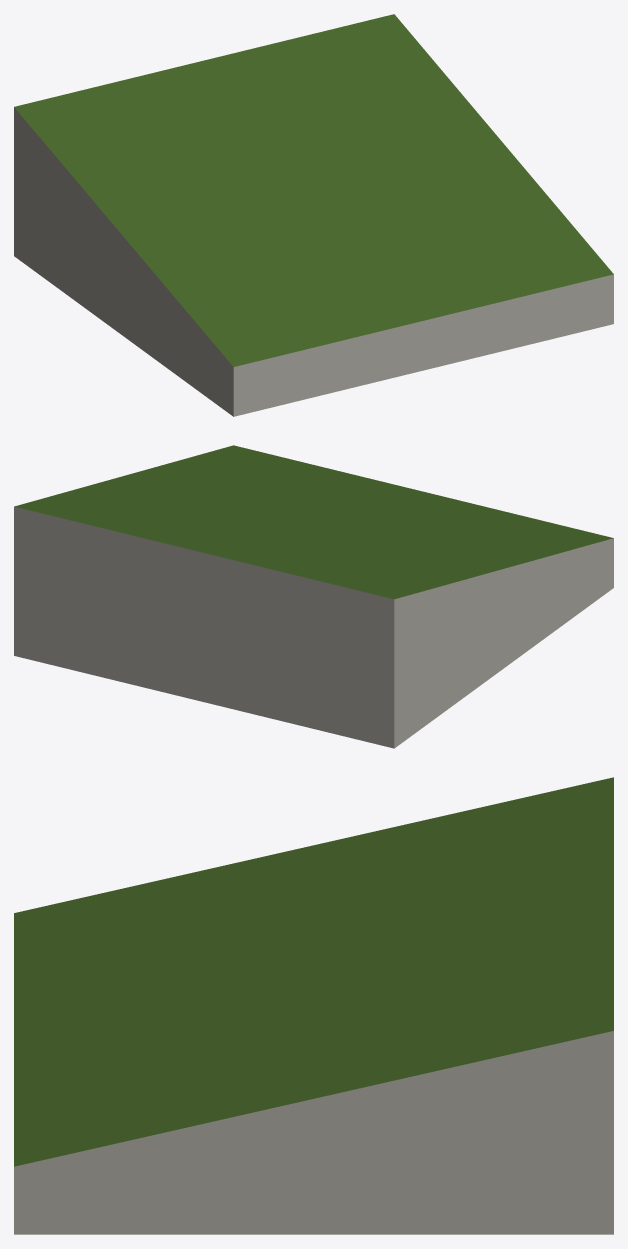
The model's file is Terrain_Tile_Grass_Rock_Ramp_High_01.fbx.
3 renders of one model, top to bottom at view 1: azimuth 30°, elevation 25°; view 2: azimuth 150°, elevation 25°; view 3: azimuth 270°, elevation 25°, orthographic. The views are drawn at different scales.
Parts seen in each view (by area): view 1: Terrain_Tile_Grass_Rock_Ramp_High_01; view 2: Terrain_Tile_Grass_Rock_Ramp_High_01; view 3: Terrain_Tile_Grass_Rock_Ramp_High_01.
Part boxes in pixels (bbox=[...]): Terrain_Tile_Grass_Rock_Ramp_High_01: bbox=[14, 14, 613, 416]; Terrain_Tile_Grass_Rock_Ramp_High_01: bbox=[14, 445, 613, 748]; Terrain_Tile_Grass_Rock_Ramp_High_01: bbox=[14, 777, 613, 1234].
Bounding box in the file's own units: 126 × 47.24 × 126.
